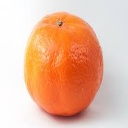orange: (22, 8, 105, 118)
